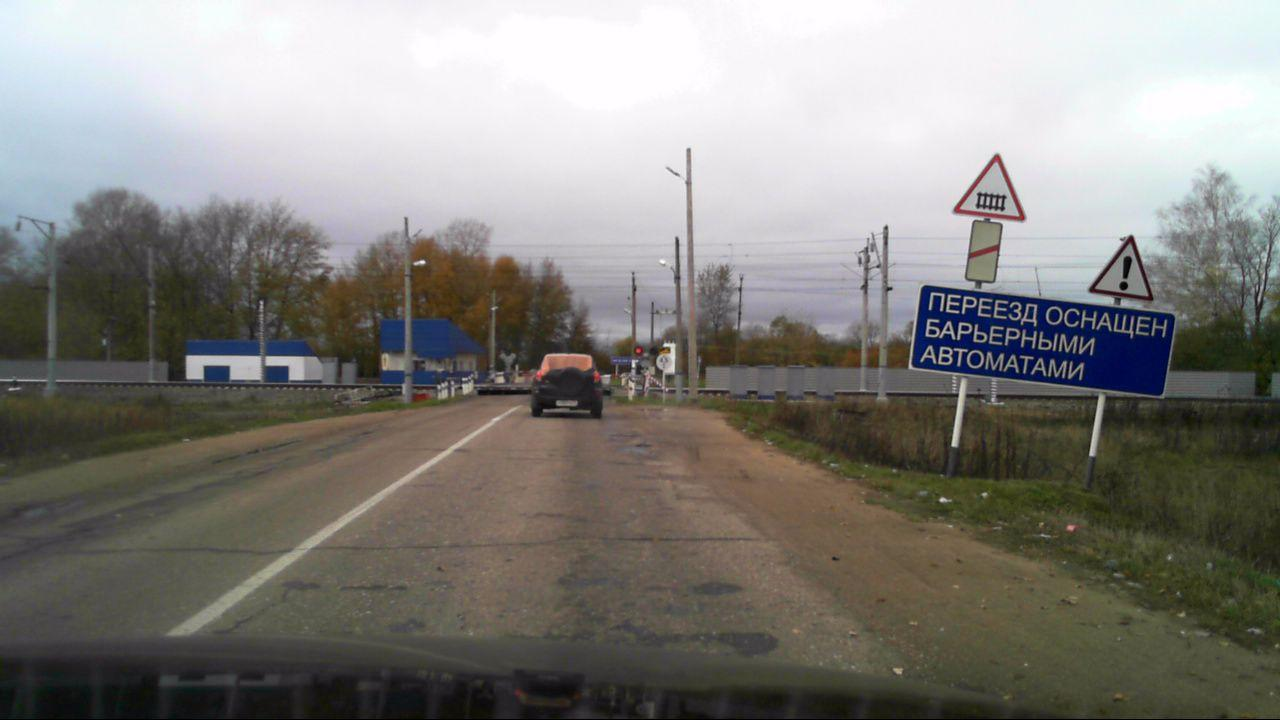1_1: (949, 146, 1028, 221)
1_33: (1088, 234, 1155, 301)
1_4_3: (962, 220, 1006, 284)
3_13: (656, 354, 673, 370)
